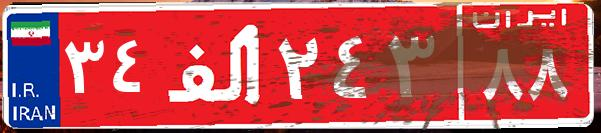2: (273, 28, 330, 110)
3: (385, 28, 445, 110), (57, 26, 110, 107)
4: (330, 28, 385, 110), (110, 28, 158, 105)
8: (475, 38, 525, 113), (525, 38, 570, 115)
الف: (158, 15, 273, 115)
